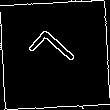L_SE: (26, 27, 84, 83)
